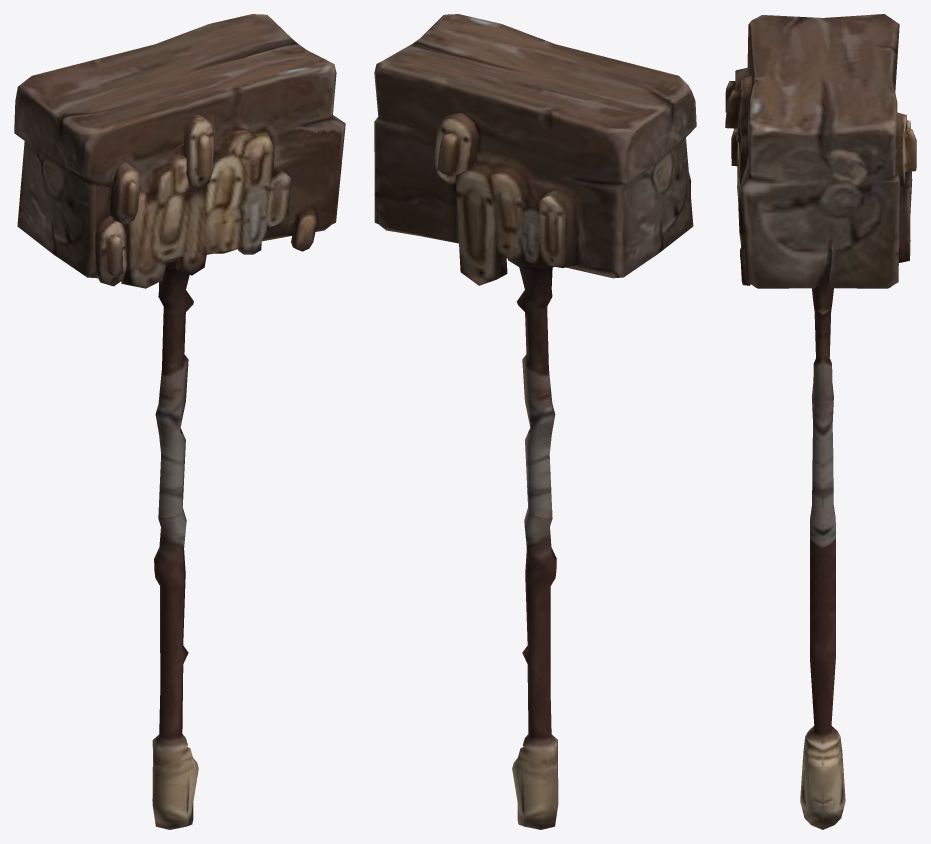
Rendered from weapon-cinder-stone.glb.
3 renders of one model, left to right at view 1: azimuth 30°, elevation 25°; view 2: azimuth 150°, elevation 25°; view 3: azimuth 270°, elevation 25°, orthographic.
Visible parts, largest first — view 1: greatHammerJ_MDL_q; view 2: greatHammerJ_MDL_q; view 3: greatHammerJ_MDL_q.
Boxes of the visible parts, x1,y1,x2,y2 form: greatHammerJ_MDL_q: [14, 14, 345, 829]; greatHammerJ_MDL_q: [374, 14, 696, 829]; greatHammerJ_MDL_q: [725, 14, 916, 829].
Size of the model in its own units: 0.8625 by 2.42 by 0.5547.
1 material, 1 textured.
